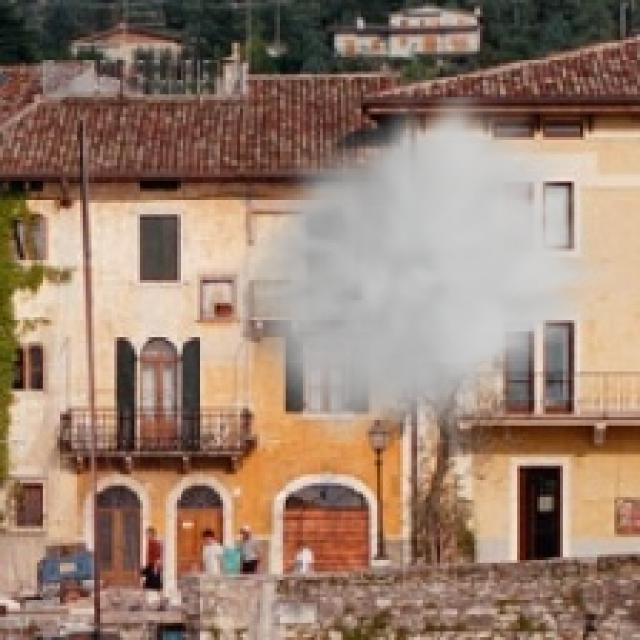smoke: (220, 97, 611, 443)
